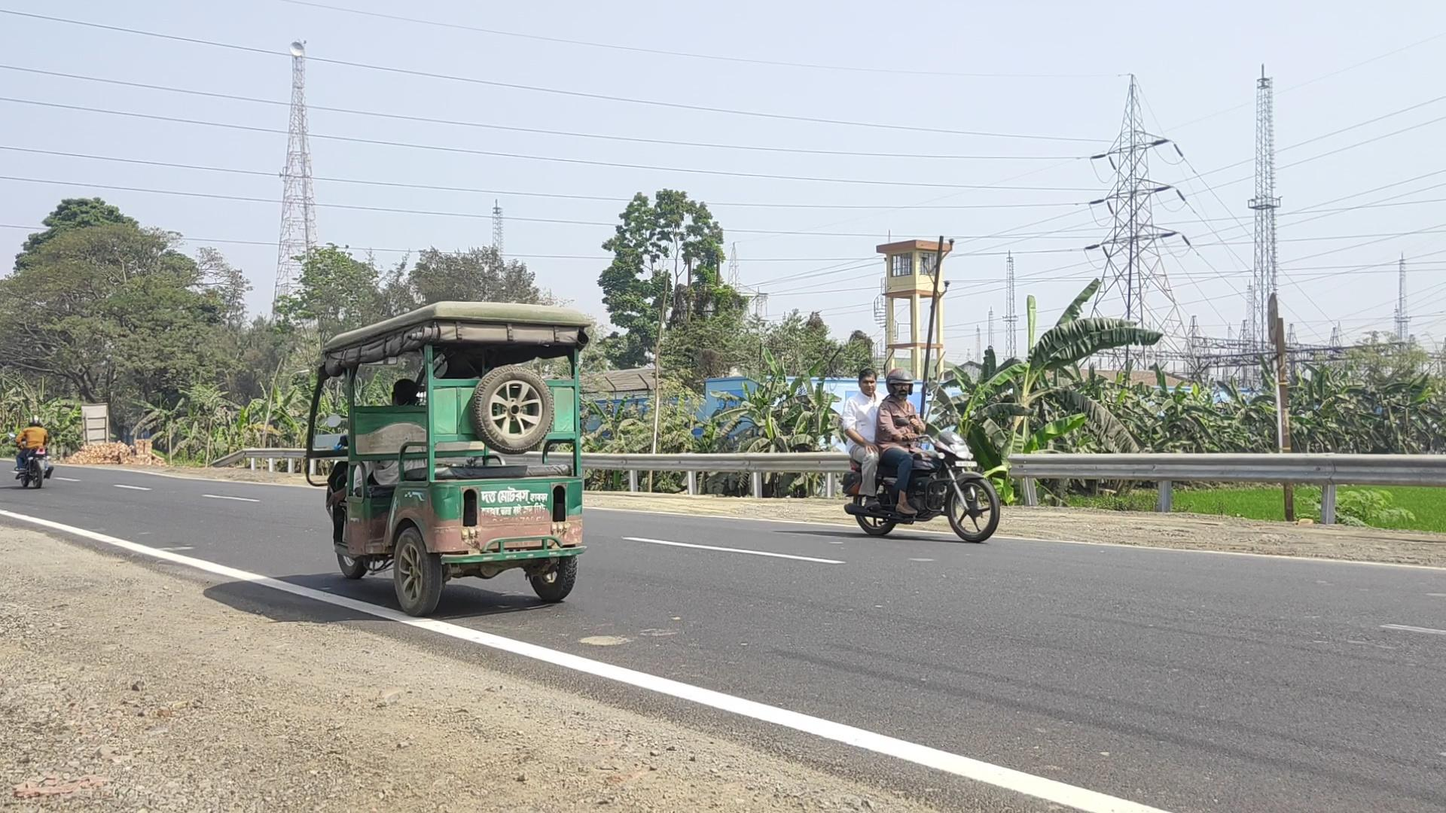Auto: (306, 301, 592, 618)
bike: (840, 367, 1000, 544), (8, 414, 54, 489)
